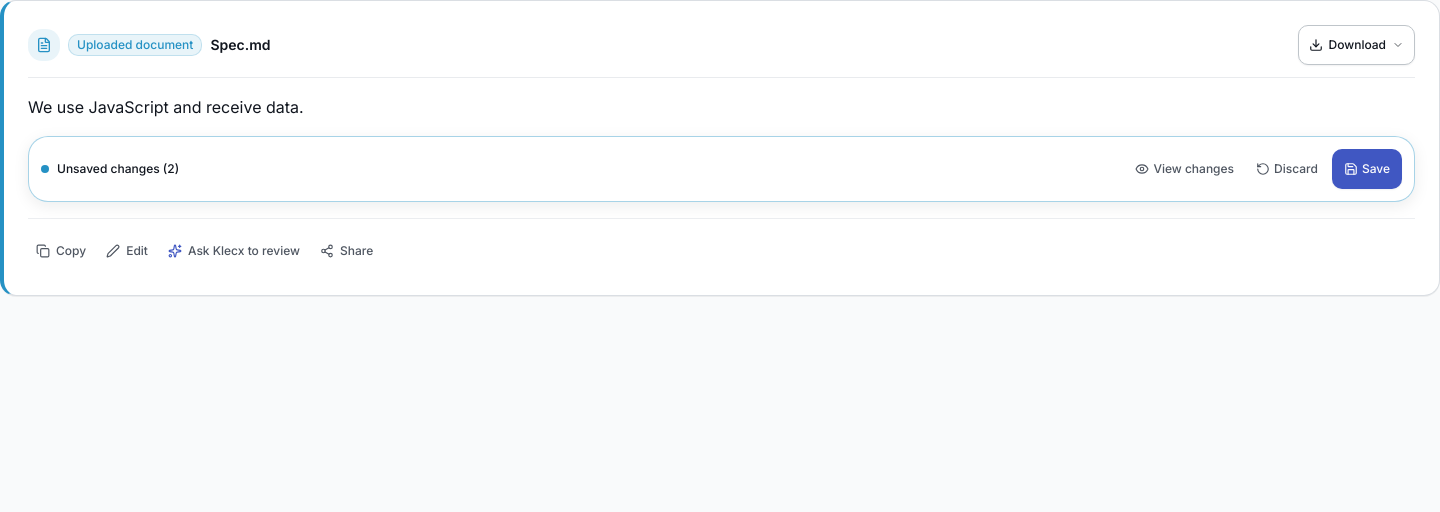
Step F3.2 UI — Document drafts, diff view, Save, Discard, and Conflict resolution › accumulates fixes and manual edits in draft, persists in sessionStorage, shows diff, and saves once
Check: the text with test id "draft-unsaved-count" reads "Unsaved changes (2)", box 57,161 -> 179,176
Click the button with test id "document-edit-btn". click: (127,251)
box: 98,231 -> 156,271
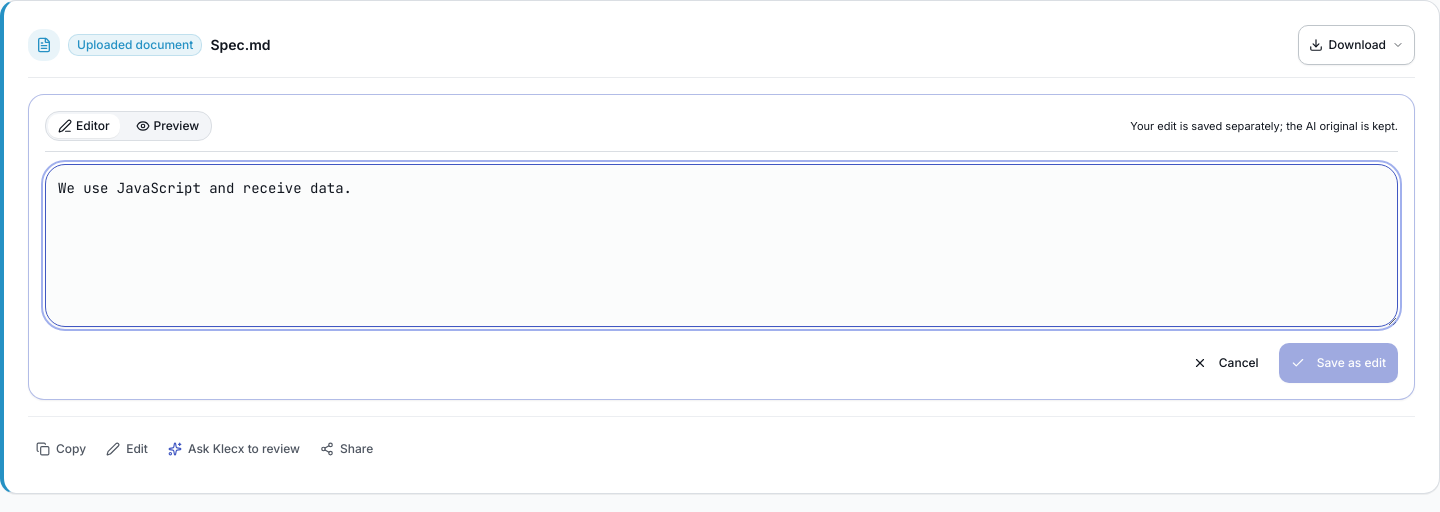
Replace the text in the text box with placeholder "Edit response content..." with "We use JavaScript and receive data cleanly.". click: (722,245)
box: 45,164 -> 1398,326
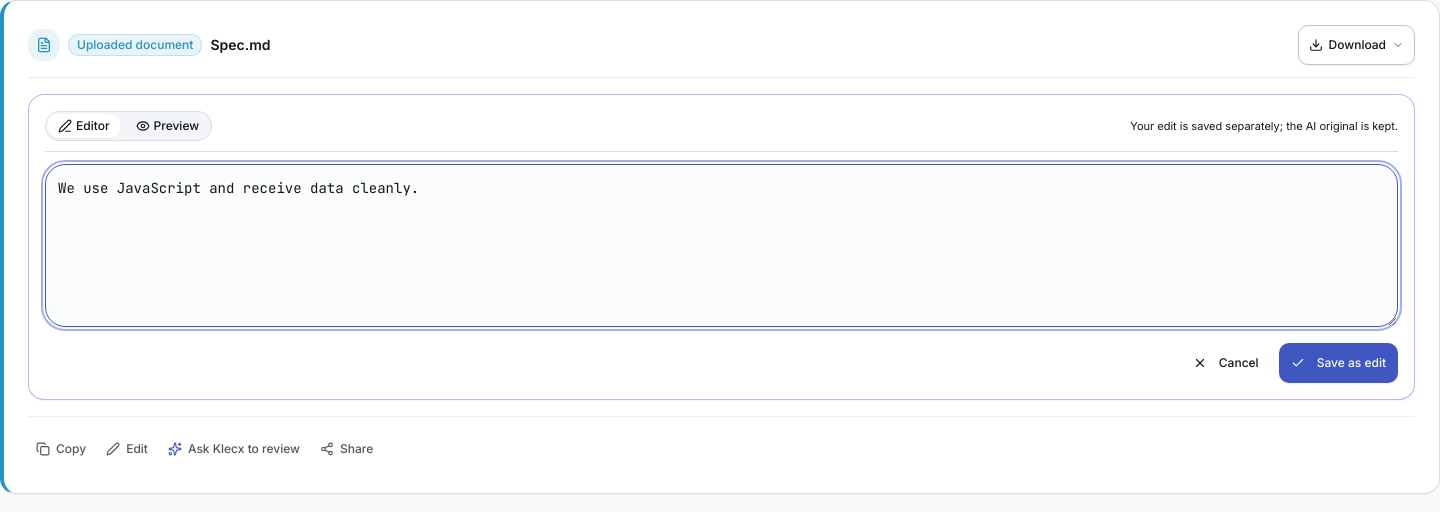
Click the button "Save as edit". click: (1338,362)
box: 1279,342 -> 1398,382
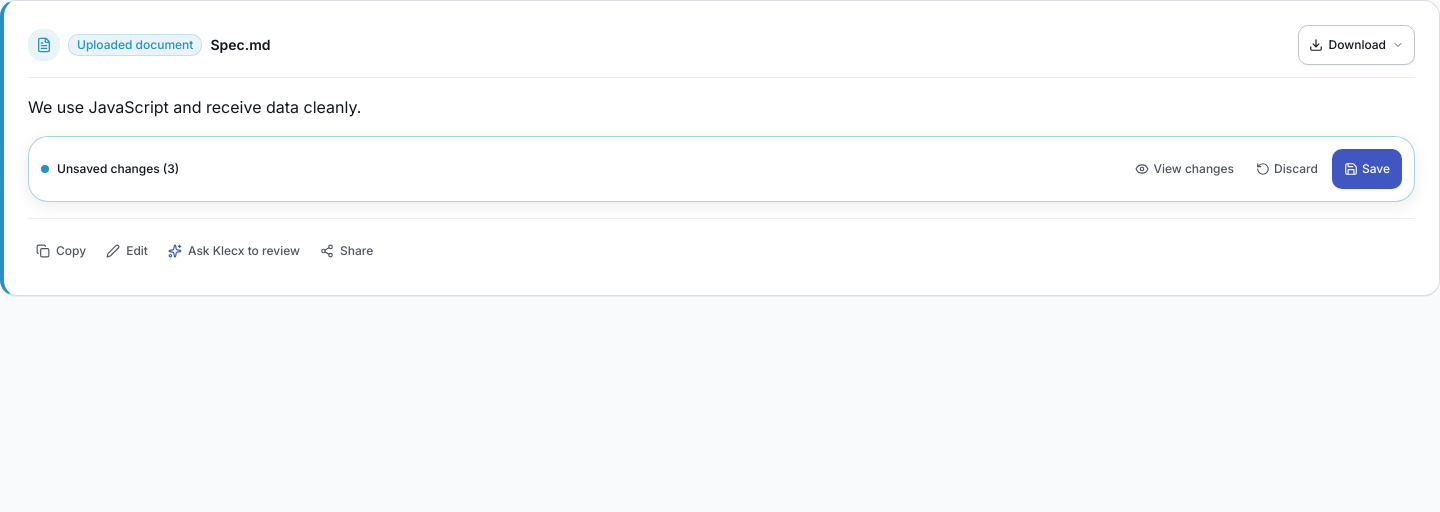
Check: the text with test id "draft-unsaved-count" reads "Unsaved changes (3)", box 57,161 -> 179,176
Note: Toggle "View changes" to inspect inline word diff
Click the button with test id "draft-view-changes-btn". click: (1185,169)
box: 1127,149 -> 1242,189
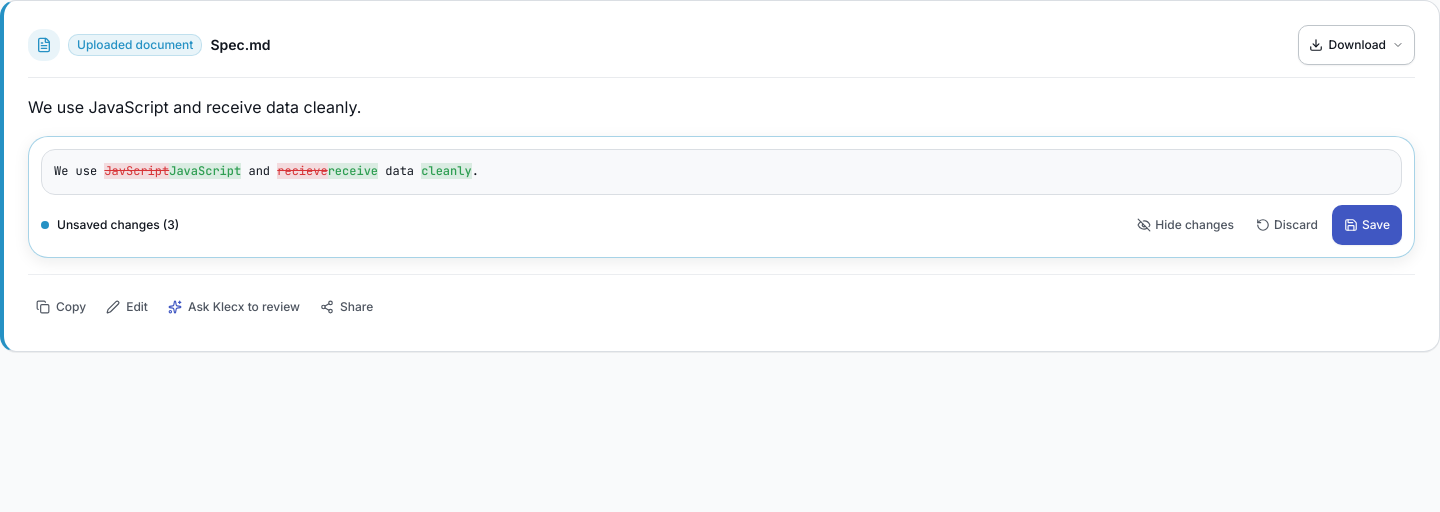
Check: the element with test id "document-diff-panel" is shown, box 41,149 -> 1402,194
Click the button with test id "draft-save-btn". click: (1367,224)
box: 1332,204 -> 1402,244
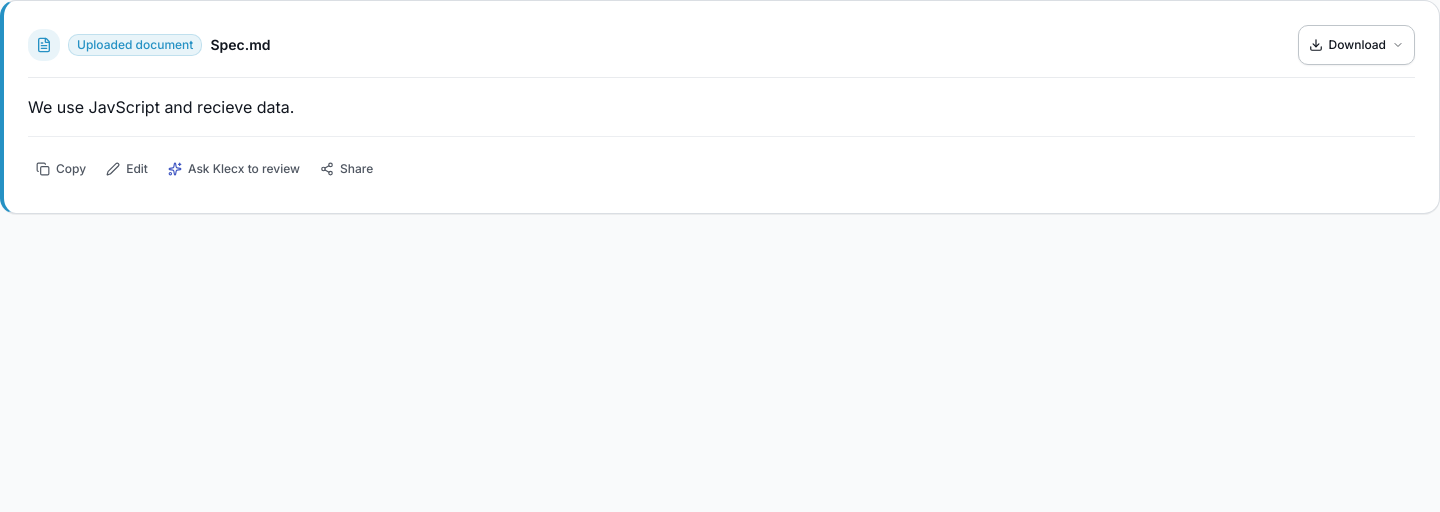
Check: the element with test id "document-draft-bar" is gone
